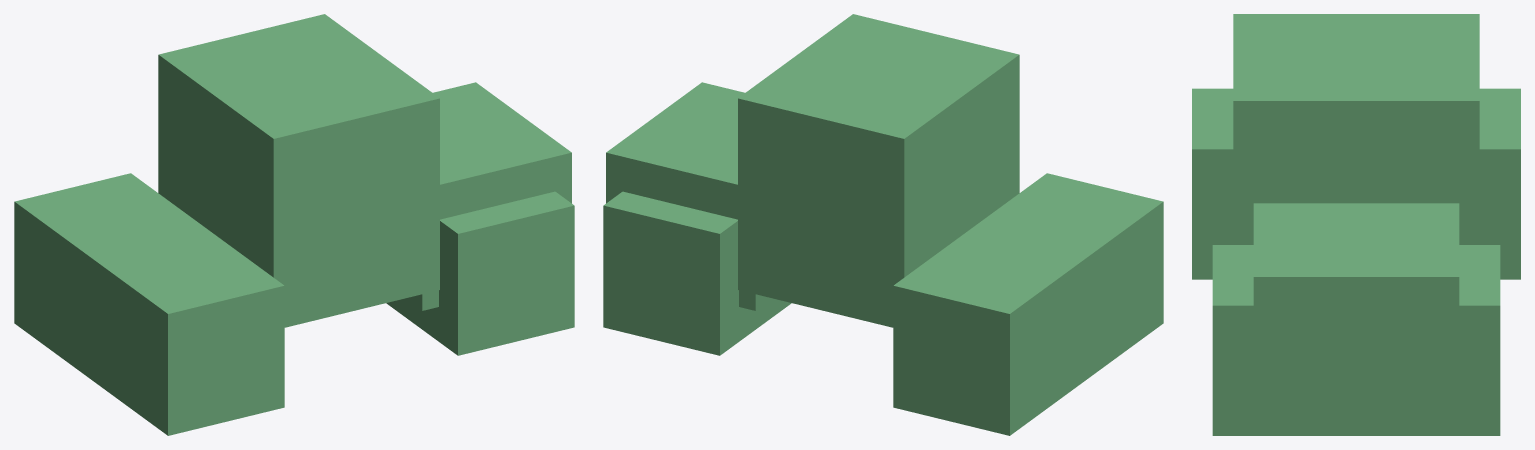
The model's file is tractor.glb.
3 renders of one model, left to right at view 1: azimuth 30°, elevation 25°; view 2: azimuth 150°, elevation 25°; view 3: azimuth 270°, elevation 25°, orthographic. The views are drawn at different scales.
Size of the model in its own units: 2.6 by 1.45 by 1.6.
